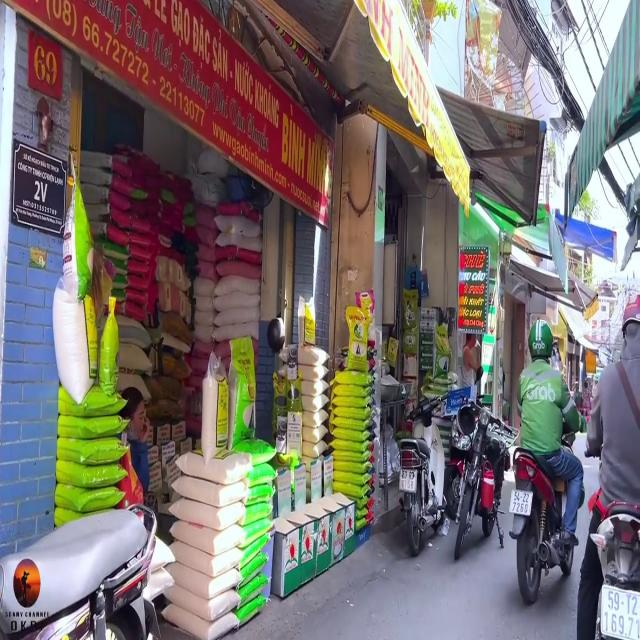bien_trang: (600, 578, 640, 640), (511, 488, 534, 518), (397, 468, 420, 496)
